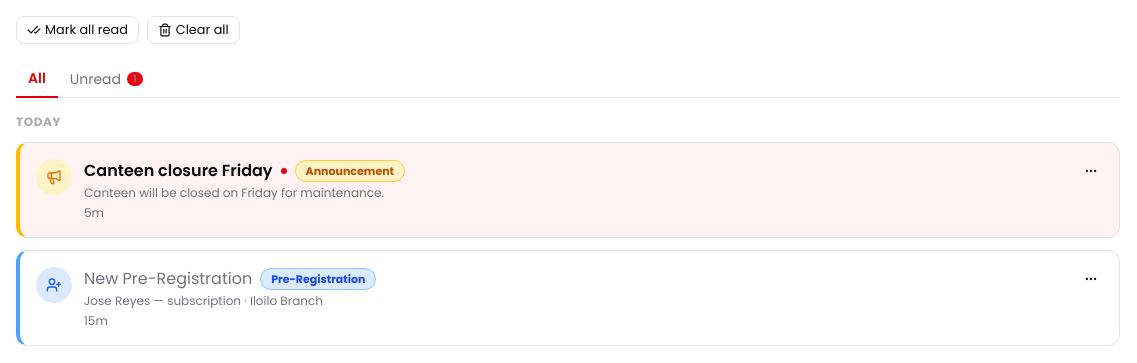
Test case: NotificationsPage (POS) › Unread tab filters to only unread notifications
This screenshot has width=1137, height=363.
Expected: the text "Canteen closure Friday" is shown, [84,159,272,183]
Click the tab "Unread 1": (106, 78) [58,60,155,97]
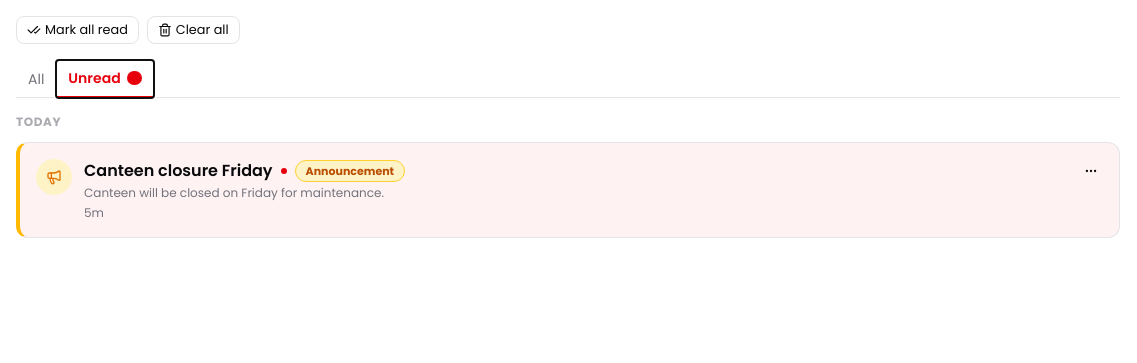
Expected: the text "Canteen closure Friday" is shown, [84,159,272,183]
Expected: the button "New Pre-Registration" is gone
